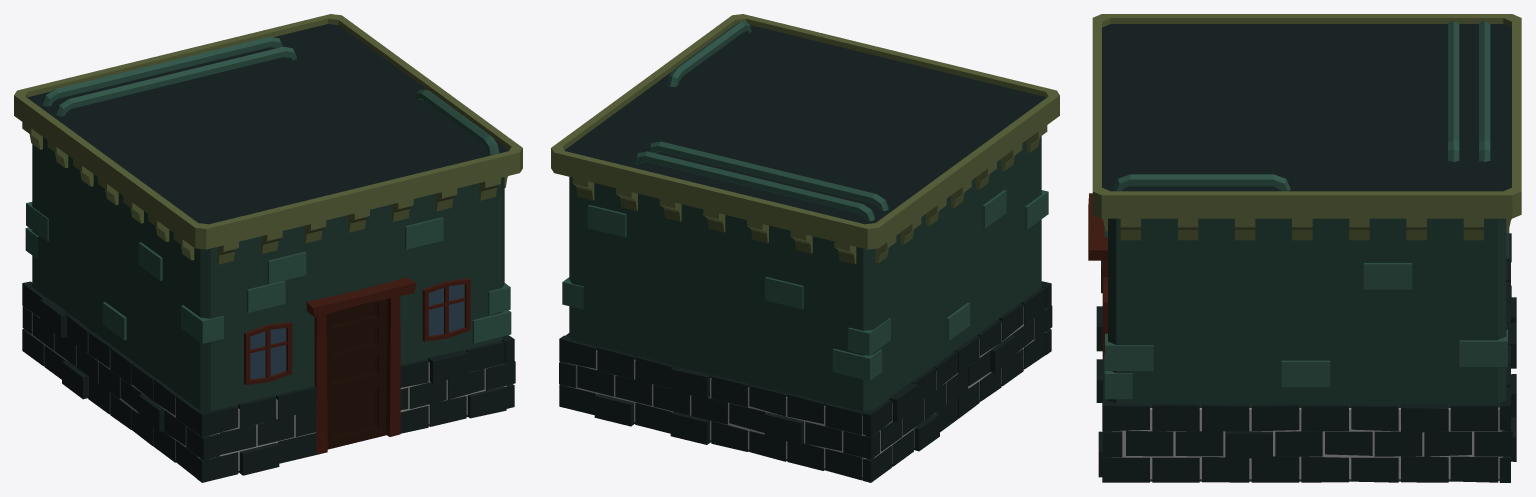
File: bld_1Story_Mat.glb
The picture shows the model from 3 angles, left to right: view 1: azimuth 30°, elevation 25°; view 2: azimuth 150°, elevation 25°; view 3: azimuth 270°, elevation 25°; orthographic projection. The views are drawn at different scales.
Visible parts, largest first — view 1: 1Story_Mat; view 2: 1Story_Mat; view 3: 1Story_Mat.
Part boxes in pixels (x1=…): 1Story_Mat: x1=14, y1=14, x2=522, y2=482; 1Story_Mat: x1=551, y1=14, x2=1059, y2=482; 1Story_Mat: x1=1088, y1=14, x2=1521, y2=482.
Bounding box in the file's own units: 215 × 167 × 217.
